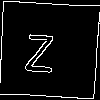Z: (24, 25, 55, 73)
